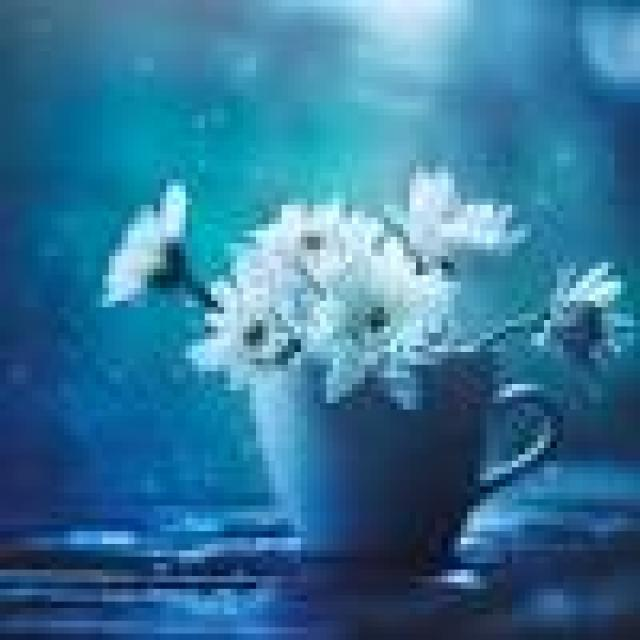taza: (230, 327, 568, 571)
